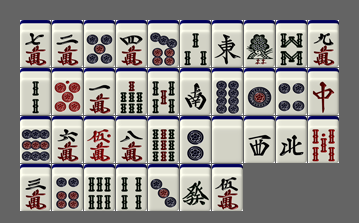0m: (84, 116, 115, 163)
0p: (52, 68, 83, 115)
0s: (308, 116, 339, 163)
1m: (84, 68, 115, 115)
1p: (244, 68, 275, 115)
1s: (244, 20, 275, 67)
1z: (212, 20, 243, 67)
2m: (52, 20, 83, 67)
2p: (180, 116, 211, 163)
2s: (20, 68, 51, 115)
2z: (180, 68, 211, 115)
3m: (20, 164, 51, 211)
3p: (148, 164, 179, 211)
3s: (180, 20, 211, 67)
3z: (244, 116, 275, 163)
4m: (116, 20, 147, 67)
4p: (276, 68, 307, 115)
4s: (116, 164, 147, 211)
4z: (276, 116, 307, 163)
5m: (212, 164, 243, 211)
5p: (84, 20, 115, 67)
5s: (148, 68, 179, 115)
5z: (212, 116, 243, 163)
6m: (52, 116, 83, 163)
6p: (52, 164, 83, 211)
6s: (84, 164, 115, 211)
6z: (180, 164, 211, 211)
7m: (20, 20, 51, 67)
7p: (148, 20, 179, 67)
7s: (116, 68, 147, 115)
7z: (308, 68, 339, 115)
8m: (116, 116, 147, 163)
8p: (212, 68, 243, 115)
8s: (276, 20, 307, 67)
9m: (308, 20, 339, 67)
9p: (20, 116, 51, 163)
9s: (148, 116, 179, 163)
